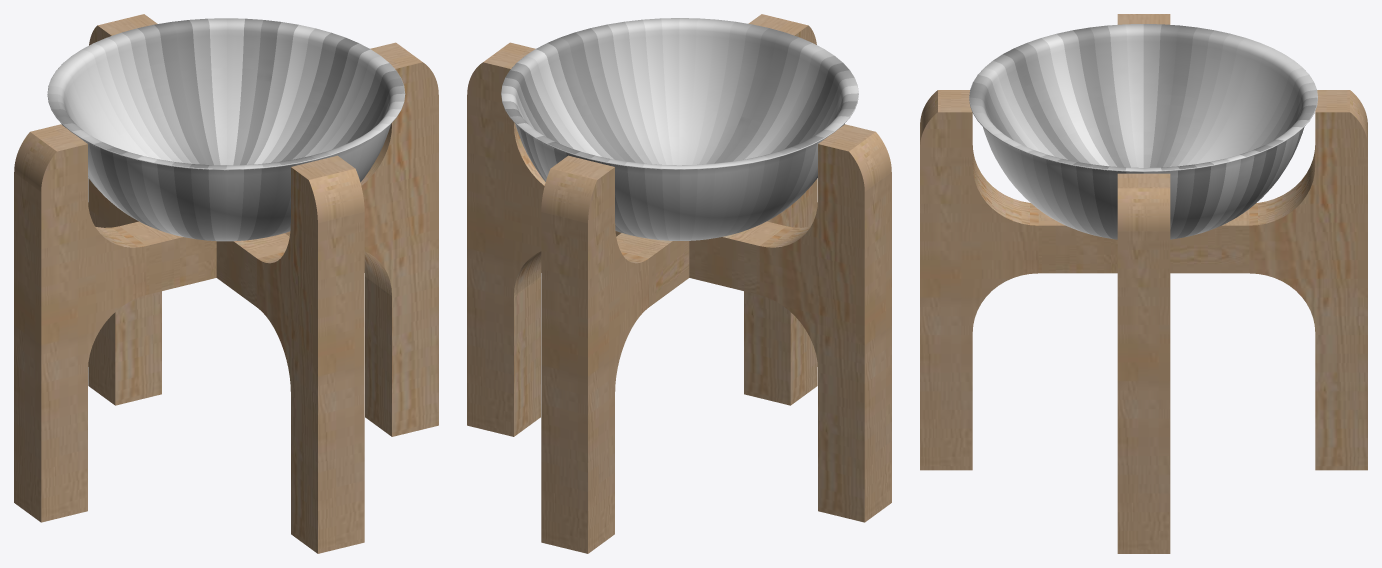
Rendered from comedero-grande-apamate.glb.
The picture shows the model from 3 angles, left to right: view 1: azimuth 30°, elevation 25°; view 2: azimuth 150°, elevation 25°; view 3: azimuth 270°, elevation 25°; orthographic projection. The views are drawn at different scales.
Bounding box in the file's own units: 0.34 × 0.3029 × 0.34.
Materials: 4 (3 with a texture image).
